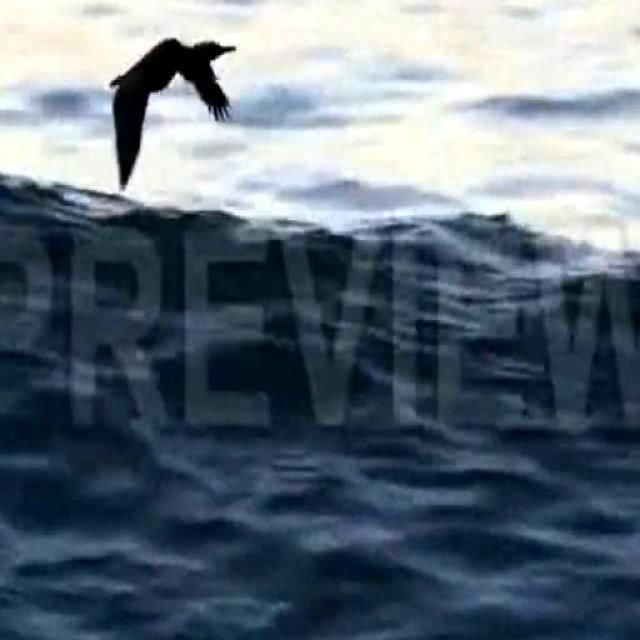airplane: (96, 0, 236, 189)
